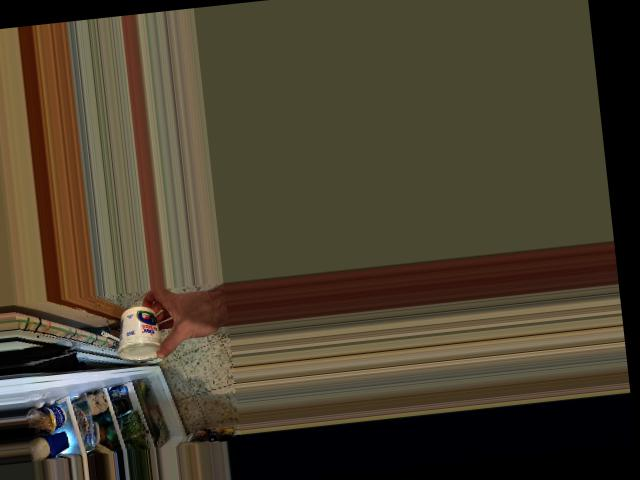cotage: (109, 302, 171, 367)
